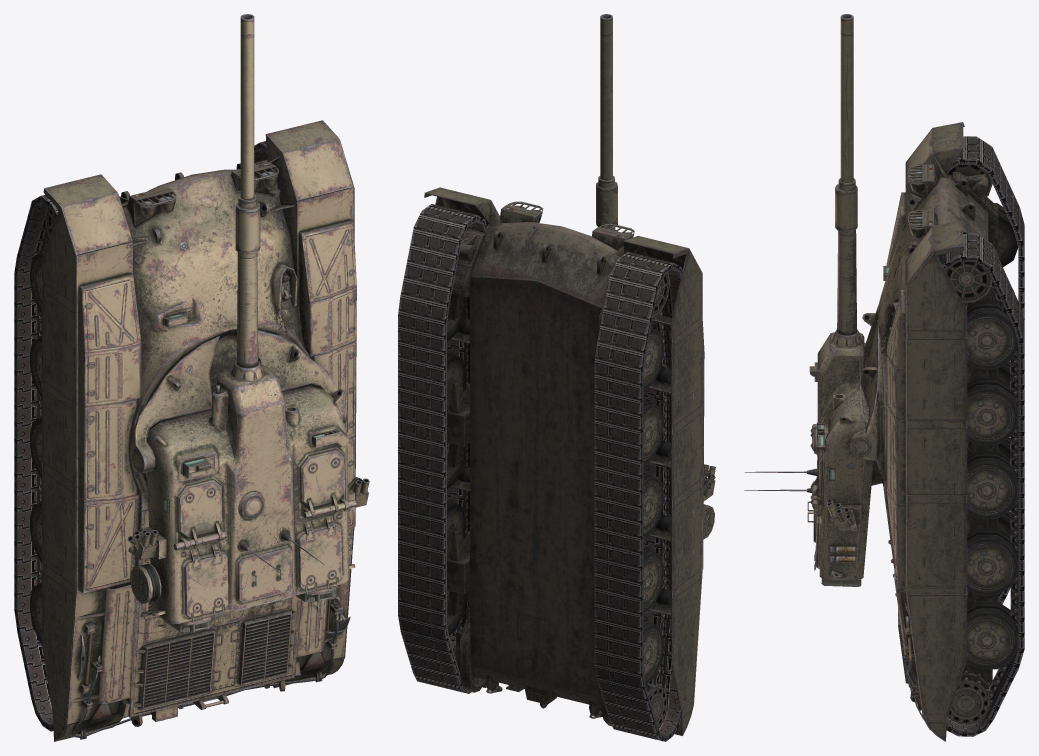
3 renders of one model, left to right at view 1: azimuth 30°, elevation 25°; view 2: azimuth 150°, elevation 25°; view 3: azimuth 270°, elevation 25°, orthographic. The views are drawn at different scales.
Parts seen in each view (by area): view 1: hull, gun_01_mask, chassis_track_L, turret_01, gun_01; view 2: hull, chassis_track_L, chassis_track_R, gun_01, chassis_wheel_L_04, chassis_wheel_L_08, chassis_wheel_L_06, chassis_wheel_L_10, chassis_wheel_L_02, gun_01_mask, chassis_wheel_L_11, chassis_wheel_R_04 (+1 smaller); view 3: hull, gun_01_mask, chassis_track_R, gun_01, turret_01, chassis_wheel_R_04, chassis_wheel_R_10, chassis_wheel_R_08, chassis_wheel_R_06, chassis_wheel_R_02, chassis_track_L, chassis_wheel_R_11 (+2 smaller).
Part boxes in pixels (box(x1,y1,x2,y2)): hull: box(42, 120, 356, 741); gun_01_mask: box(127, 360, 369, 632); chassis_track_L: box(14, 195, 58, 731); turret_01: box(130, 330, 347, 485); gun_01: box(235, 14, 260, 367); hull: box(424, 187, 704, 735); chassis_track_L: box(594, 252, 682, 741); chassis_track_R: box(398, 204, 486, 693); gun_01: box(596, 14, 617, 228); chassis_wheel_L_04: box(643, 401, 664, 465); chassis_wheel_L_08: box(643, 549, 664, 613); chassis_wheel_L_06: box(643, 473, 664, 537); chassis_wheel_L_10: box(643, 621, 664, 684); chassis_wheel_L_02: box(643, 327, 664, 390); gun_01_mask: box(703, 464, 715, 539); chassis_wheel_L_11: box(646, 683, 667, 727); chassis_wheel_R_04: box(447, 353, 466, 411); hull: box(878, 122, 998, 741); gun_01_mask: box(744, 329, 882, 586); chassis_track_R: box(937, 233, 1024, 736); gun_01: box(835, 14, 857, 335); turret_01: box(850, 306, 884, 487); chassis_wheel_R_04: box(967, 377, 1018, 445); chassis_wheel_R_10: box(966, 601, 1018, 669); chassis_wheel_R_08: box(967, 527, 1018, 595); chassis_wheel_R_06: box(967, 451, 1018, 519); chassis_wheel_R_02: box(967, 301, 1018, 369); chassis_track_L: box(950, 136, 1024, 604); chassis_wheel_R_11: box(948, 670, 992, 724).
Size of the model in its own units: 3.38 by 8.47 by 3.24.
Materials: 2 (2 with a texture image).
